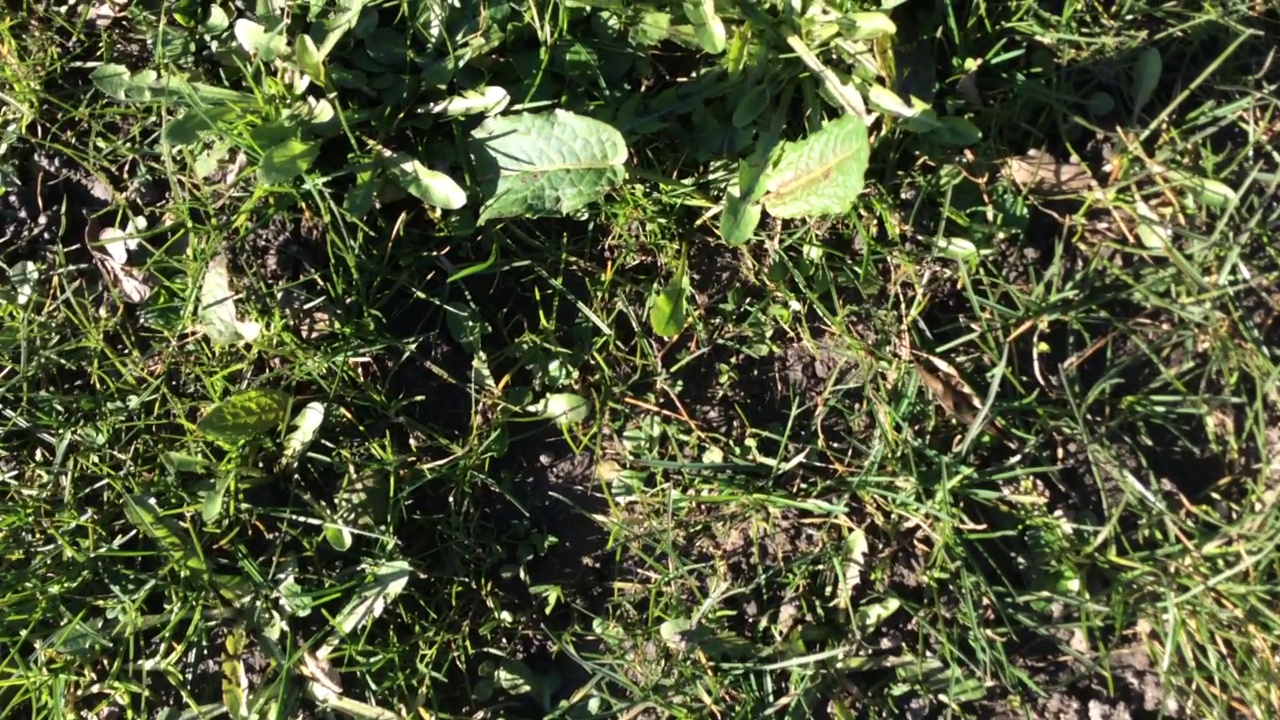rumex: (444, 111, 628, 219), (756, 115, 870, 217)
